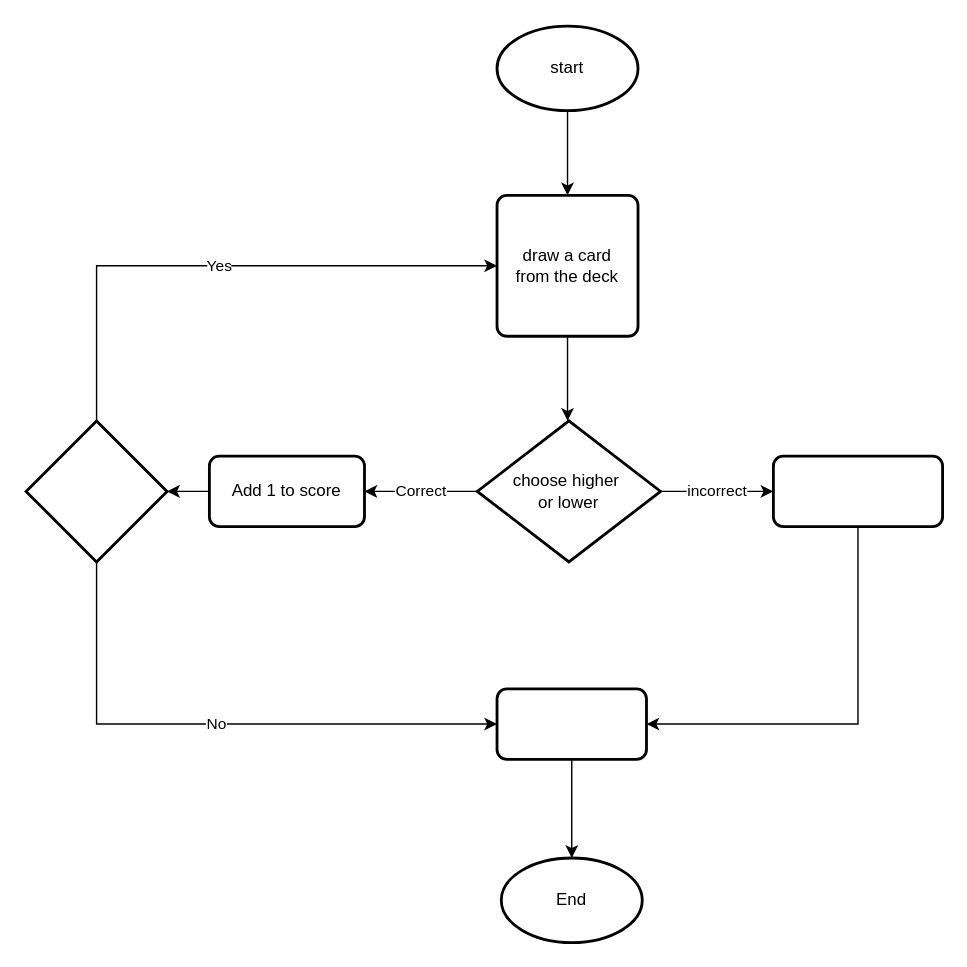
Image size: 967x967. Some labels were removed from this diagram. Here are the shapes that lost their labels. From the top down, the centre of each, then its label:
At (96,491): "correct draw again?".
At (857,490): "Set score to 0".
At (571,723): "Output Score".
